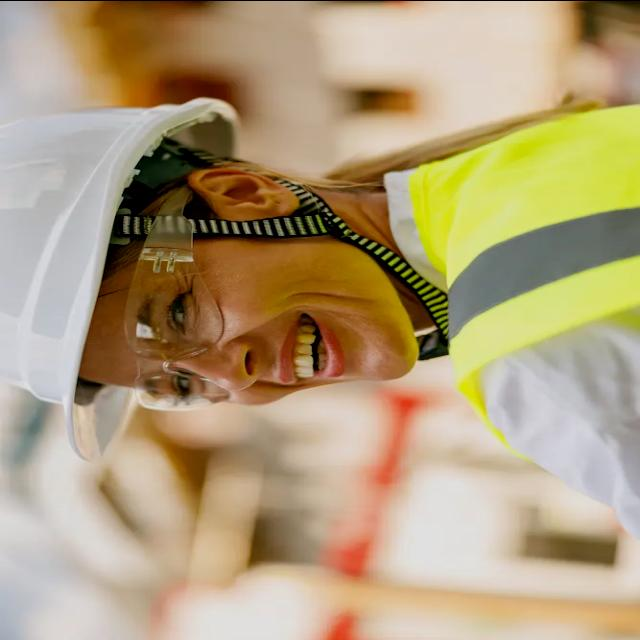Hard Hat: (0, 90, 241, 437)
Reflective Vest: (450, 90, 640, 531)
Safety Glasses: (112, 226, 228, 424)
